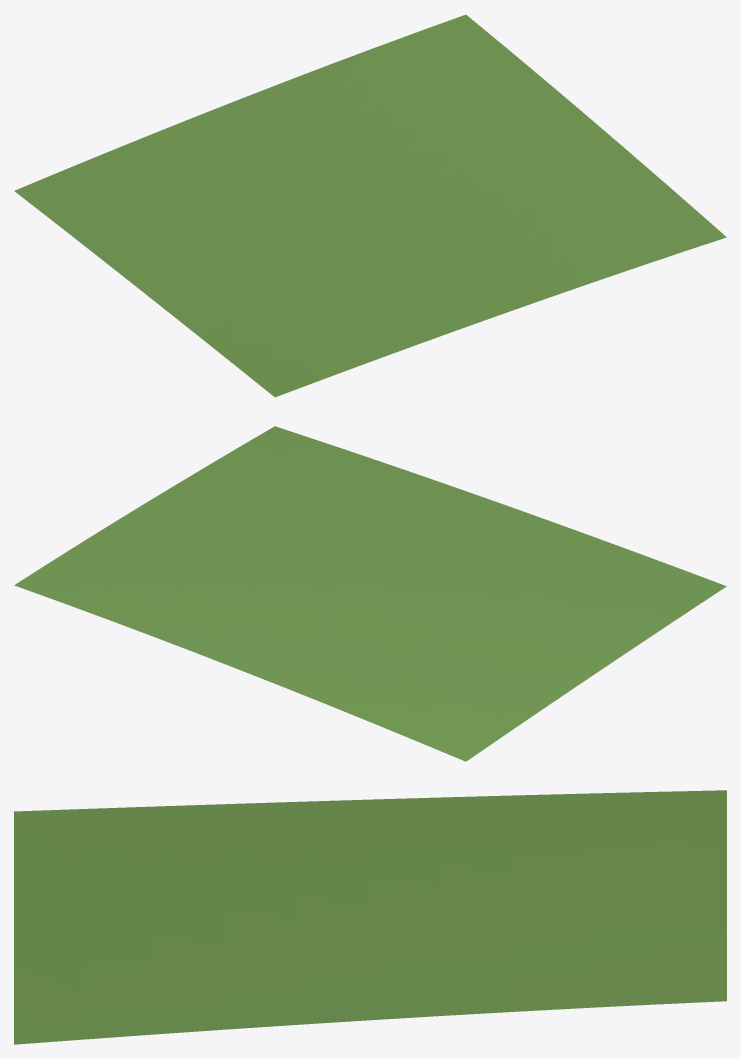
The model's file is terrain-0-3.gltf.
3 views of the same model, one above another, from view 1: azimuth 30°, elevation 25°; view 2: azimuth 150°, elevation 25°; view 3: azimuth 270°, elevation 25° (orthographic). The views are drawn at different scales.
Size of the model in its own units: 50 by 8.63 by 50.
